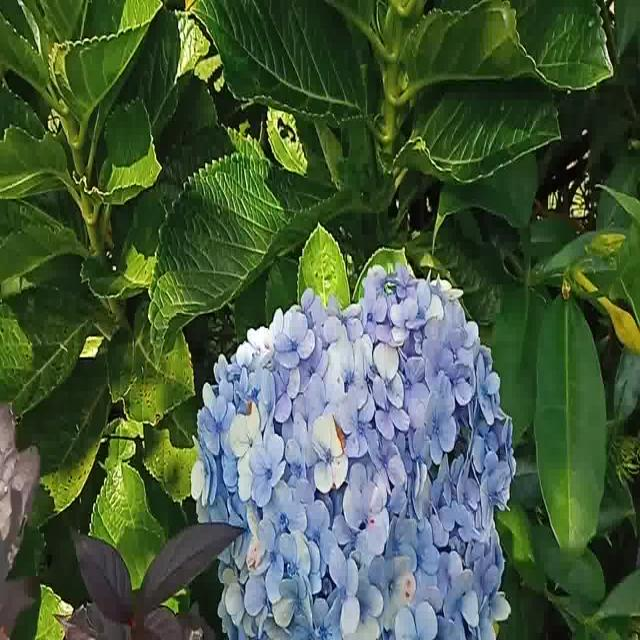Flower: (194, 266, 516, 640)
